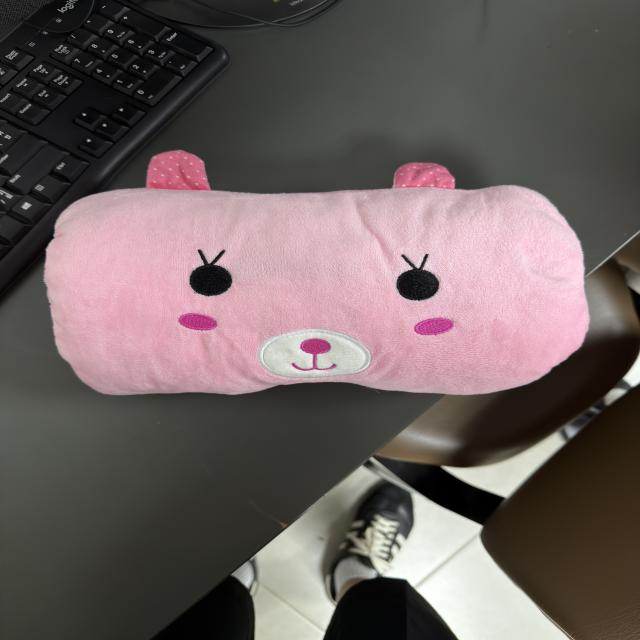pinkpillow: (40, 144, 596, 404)
